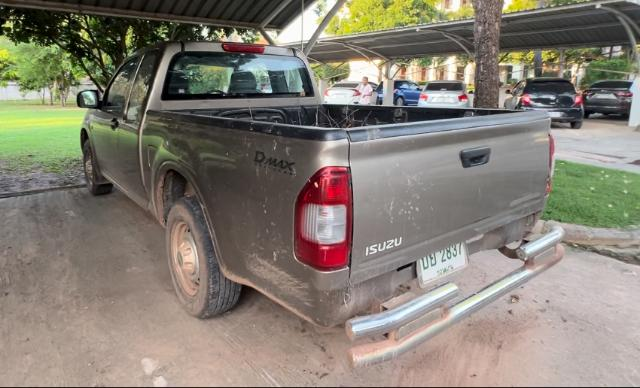pickup-truck: (76, 35, 568, 368)
